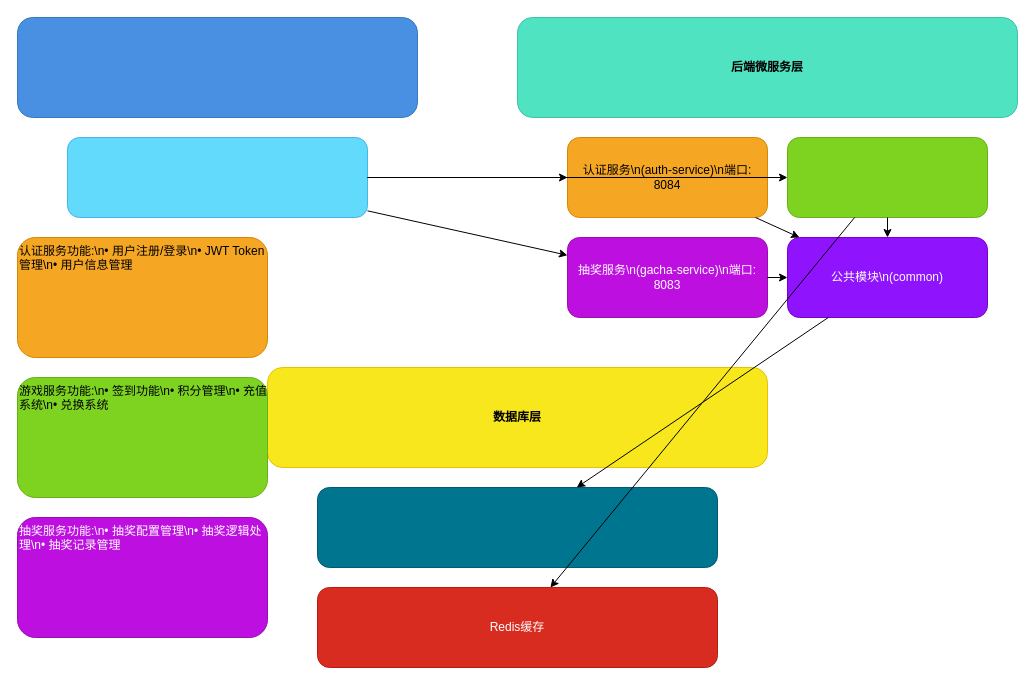
The diagram is 1035 pixels wide and 685 high, and some of its shapes have lost their labels. Here are the shapes that lost their labels. From the top down, the centre of each, then its label:
the point at 217,67: 前端层
the point at 217,177: React 前端应用\n(游戏商城)
the point at 887,177: 游戏服务\n(game-service)\n端口: 8082
the point at 517,527: MySQL数据库\n(gacha_system)
